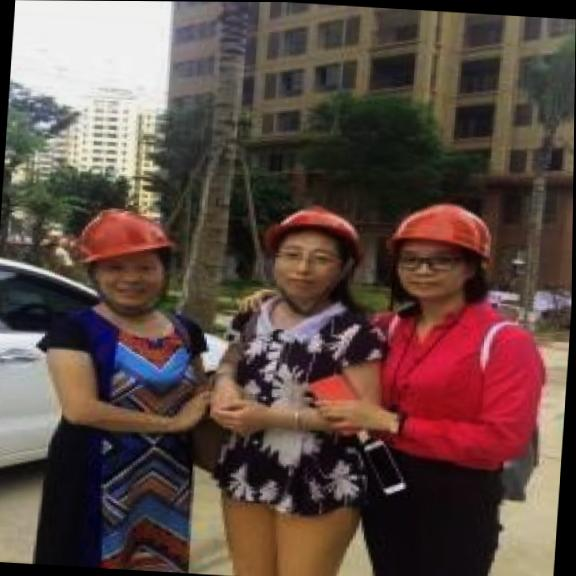no_safety_vest: (16, 297, 220, 574), (205, 289, 393, 501), (351, 295, 549, 481)
